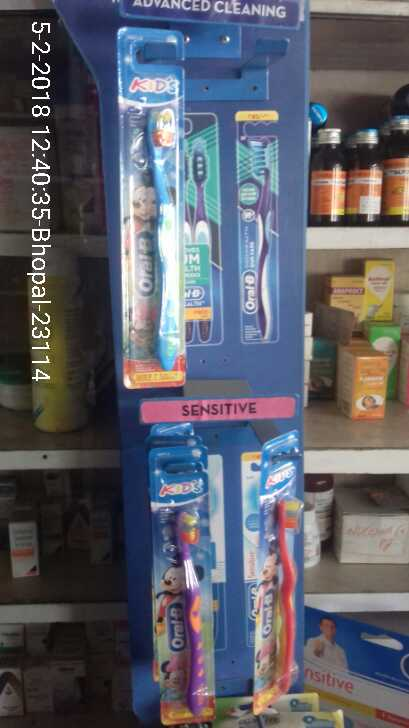oralb: (118, 91, 183, 386), (152, 441, 215, 723), (255, 437, 303, 700), (237, 114, 285, 341)
